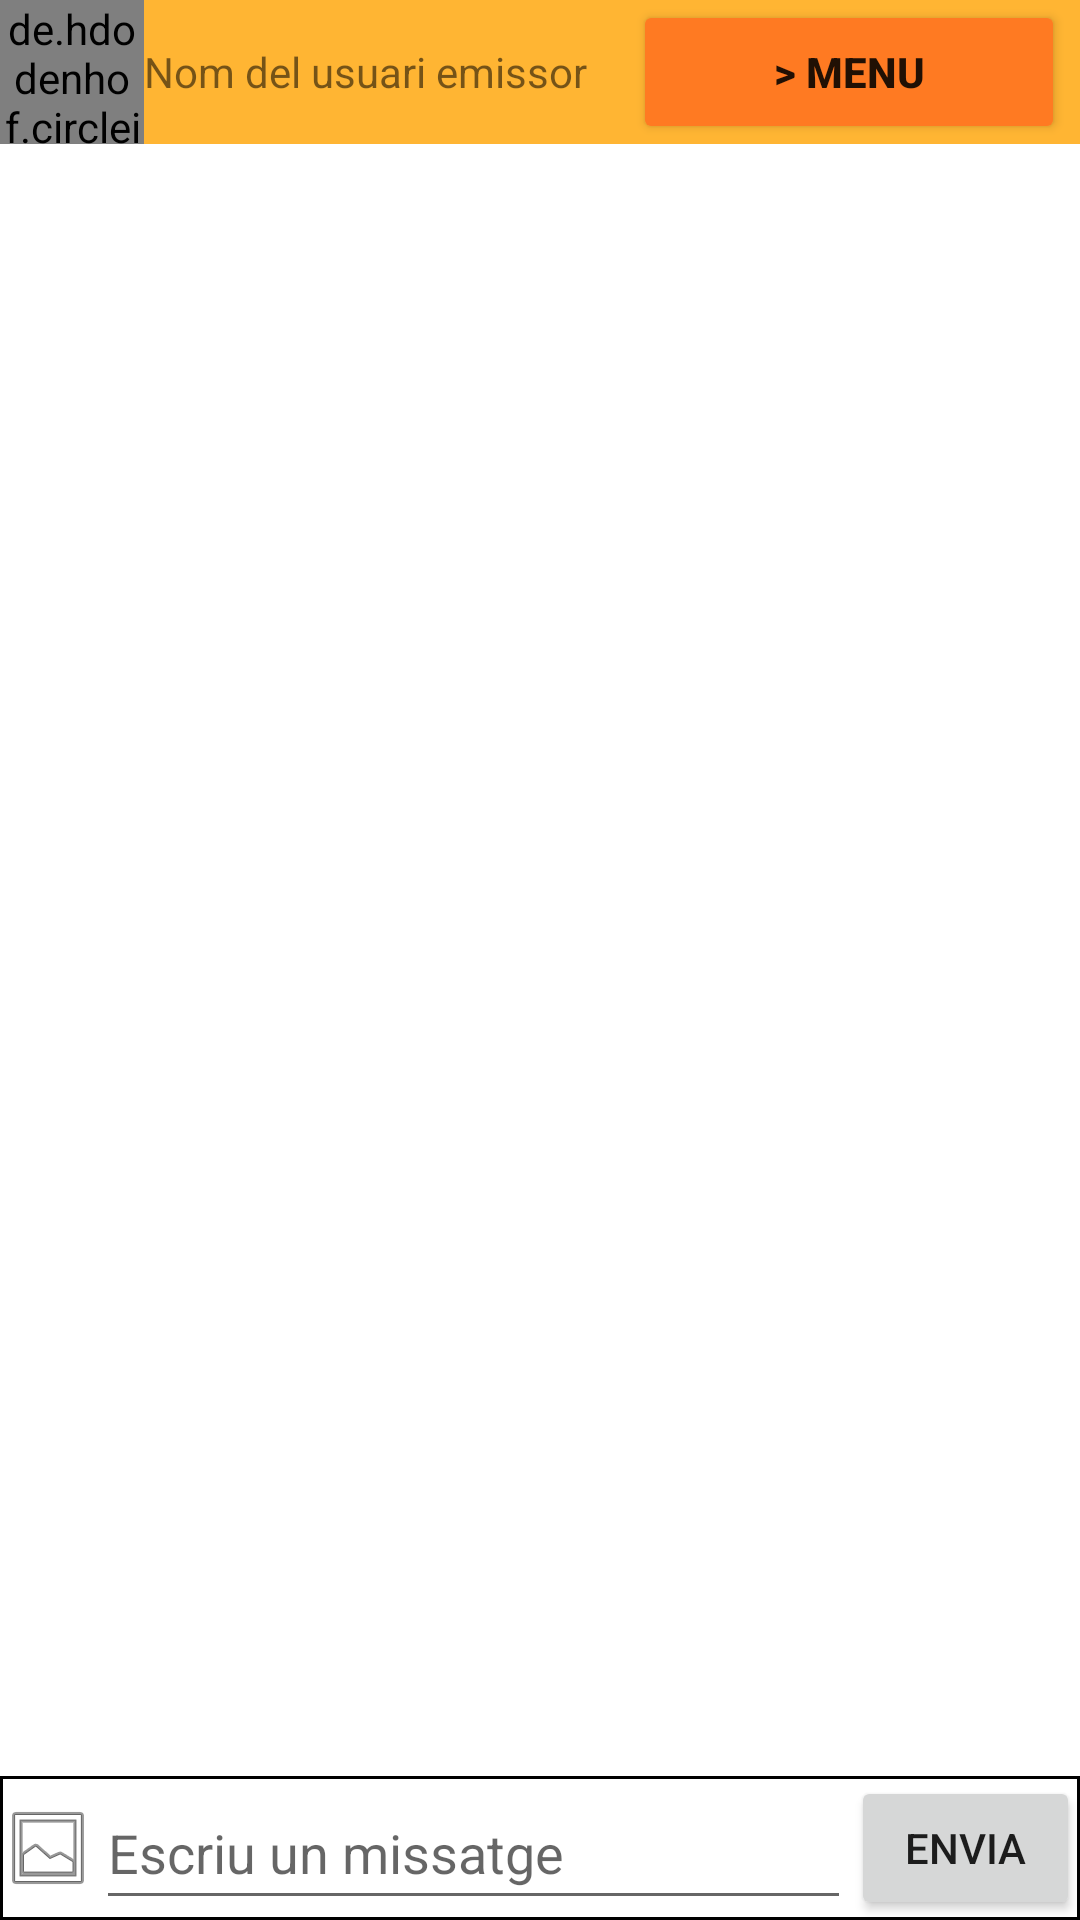

Screen size 1080×1920. Icon name, then its center in pixels as (x,y):
gallery: (48,1848)
